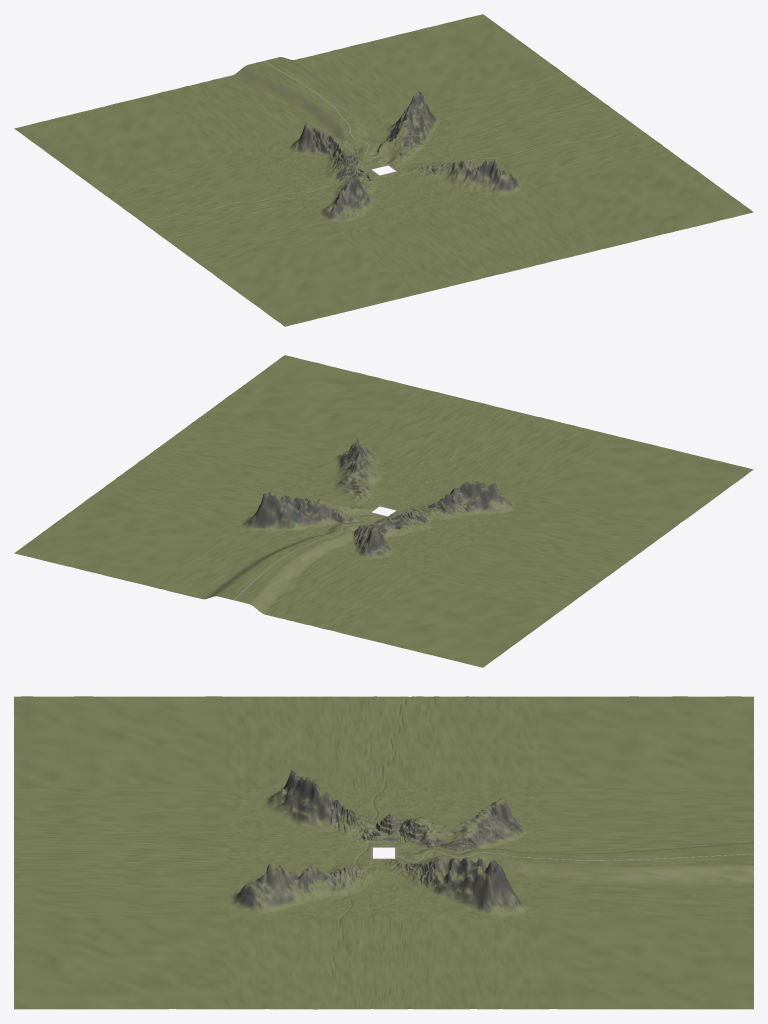
The model's file is quarry-landscape.glb.
The picture shows the model from 3 angles, top to bottom: view 1: azimuth 30°, elevation 25°; view 2: azimuth 150°, elevation 25°; view 3: azimuth 270°, elevation 25°; orthographic projection. The views are drawn at different scales.
Parts seen in each view (by area): view 1: MountainGround; view 2: MountainGround; view 3: MountainGround.
Part boxes in pixels (bbox=[...]): MountainGround: bbox=[14, 14, 753, 326]; MountainGround: bbox=[14, 355, 753, 667]; MountainGround: bbox=[14, 696, 753, 1009].
Size of the model in its own units: 28000 by 1830 by 28001.
